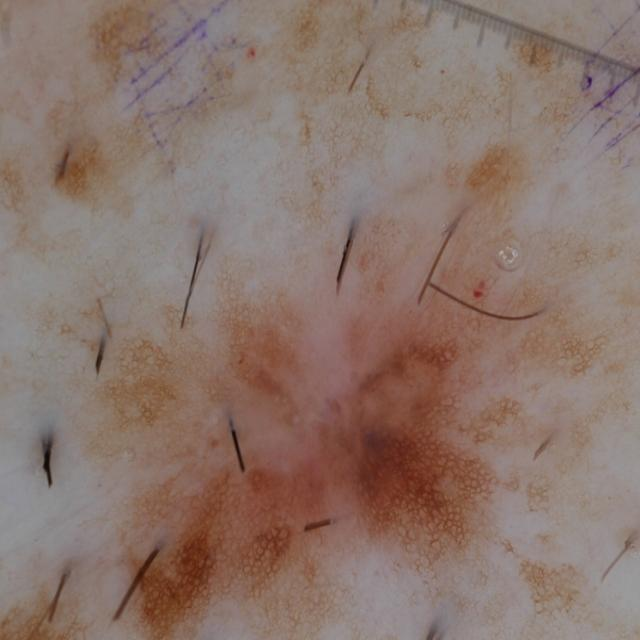Melanoma: (0, 282, 522, 640)
